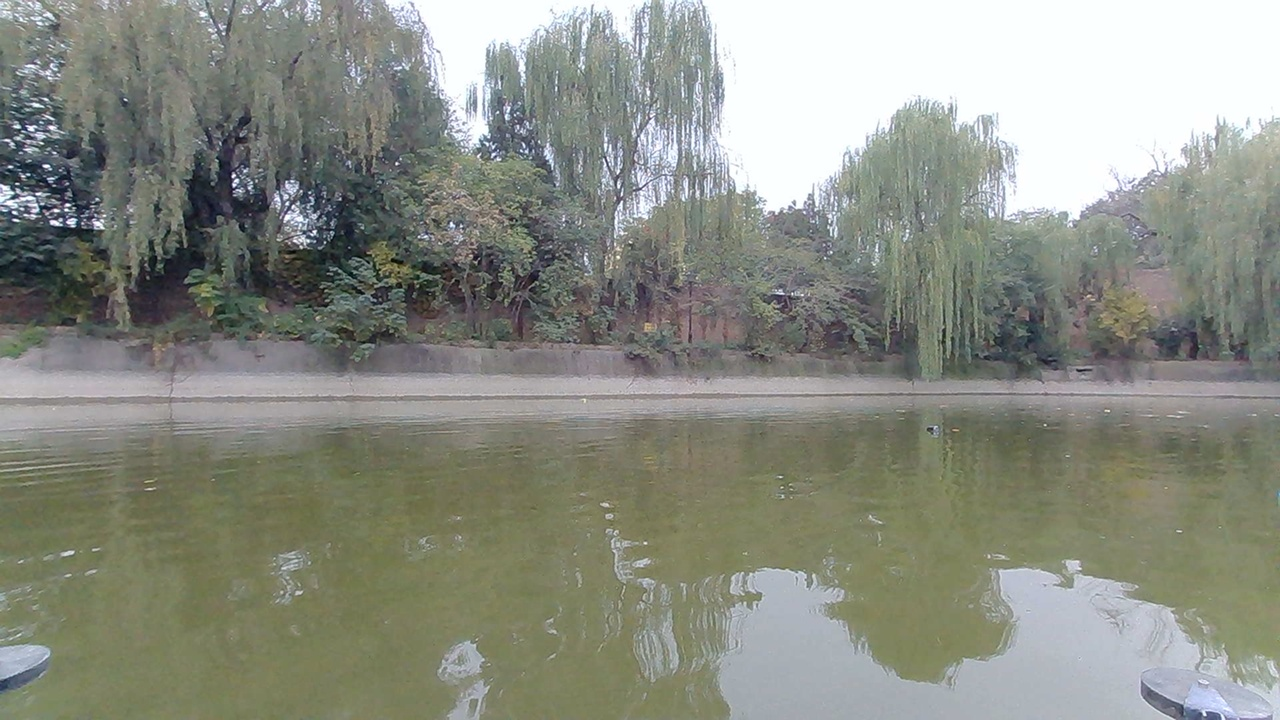bottle: (919, 410, 947, 436)
